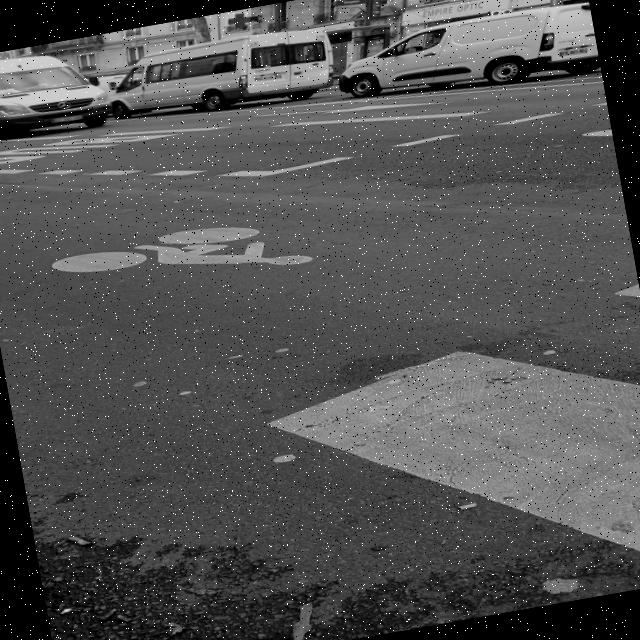Autre: (560, 45, 592, 58), (253, 71, 285, 82)
EU: (52, 113, 86, 125)
